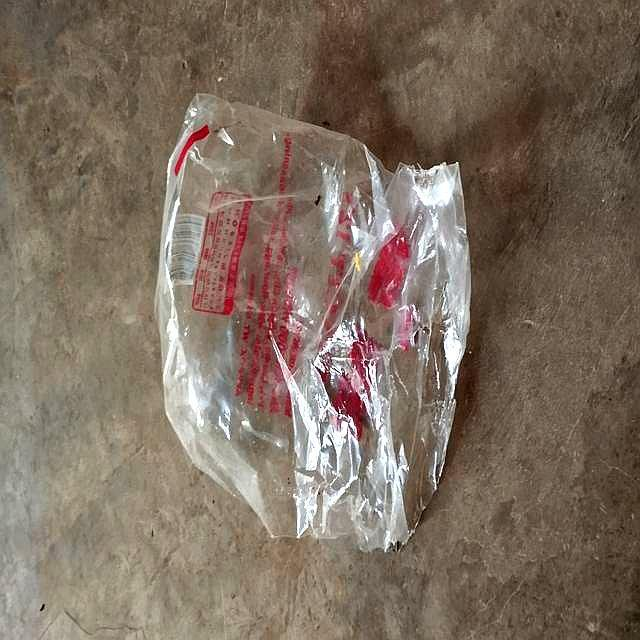Non-biodegradable: (154, 92, 474, 554)
